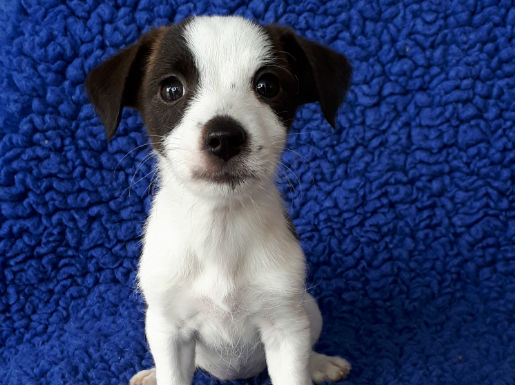dog: (75, 16, 363, 385)
